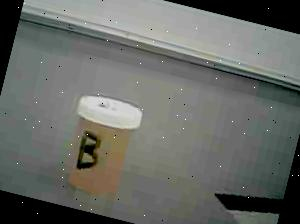Bottle B: (50, 86, 152, 207)
